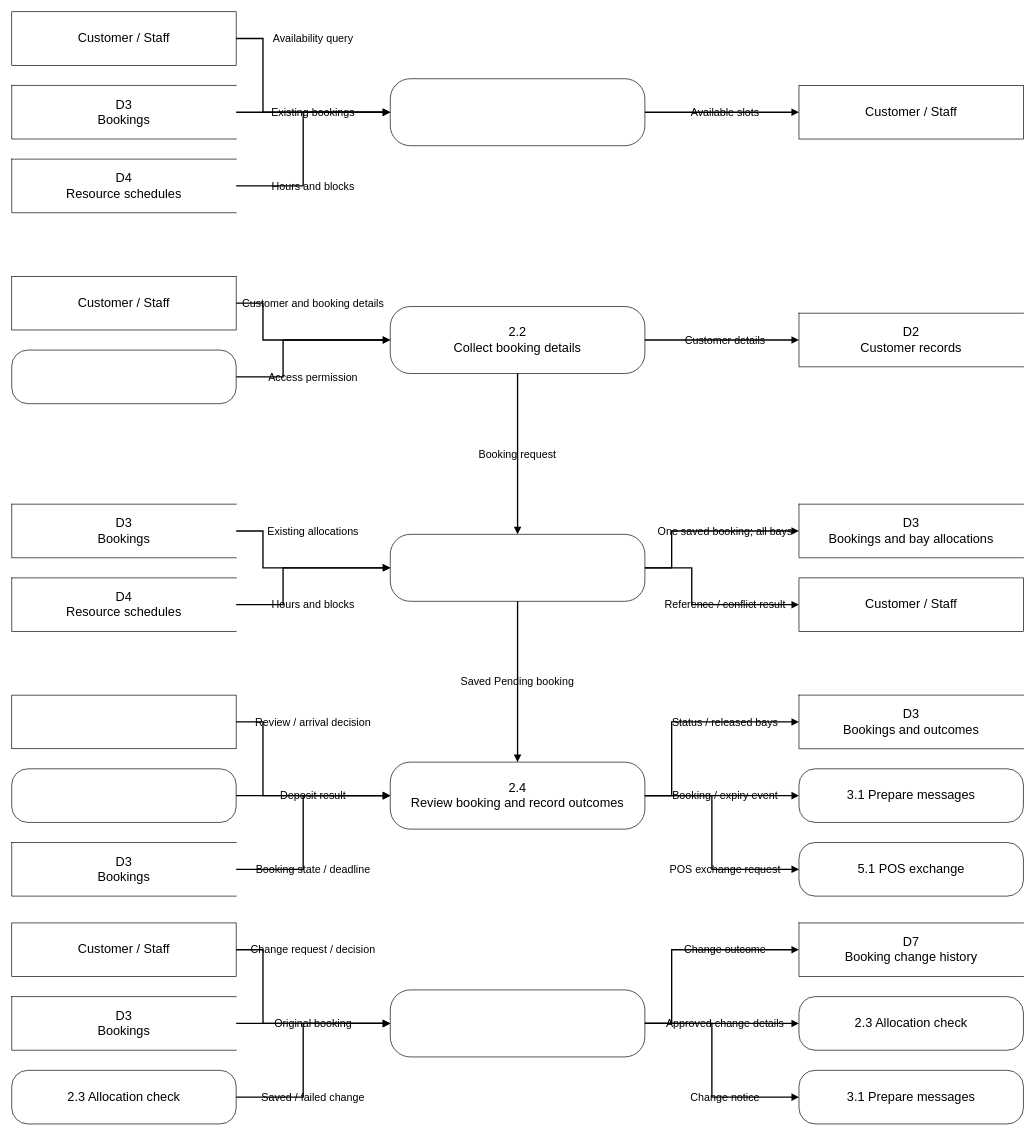
The diagram is 1035 pixels wide and 1136 high, and some of its shapes have lost their labels. Here are the shapes that lost their labels. From the top down, the centre of each, then its label:
At point (517, 112): "2.1 Check available bays and times".
At point (123, 376): "1.4 Access check".
At point (517, 567): "2.3 Check and save all bay allocations".
At point (123, 721): "Staff".
At point (123, 795): "5.4 POS result".
At point (517, 1023): "2.5 Process booking changes".
